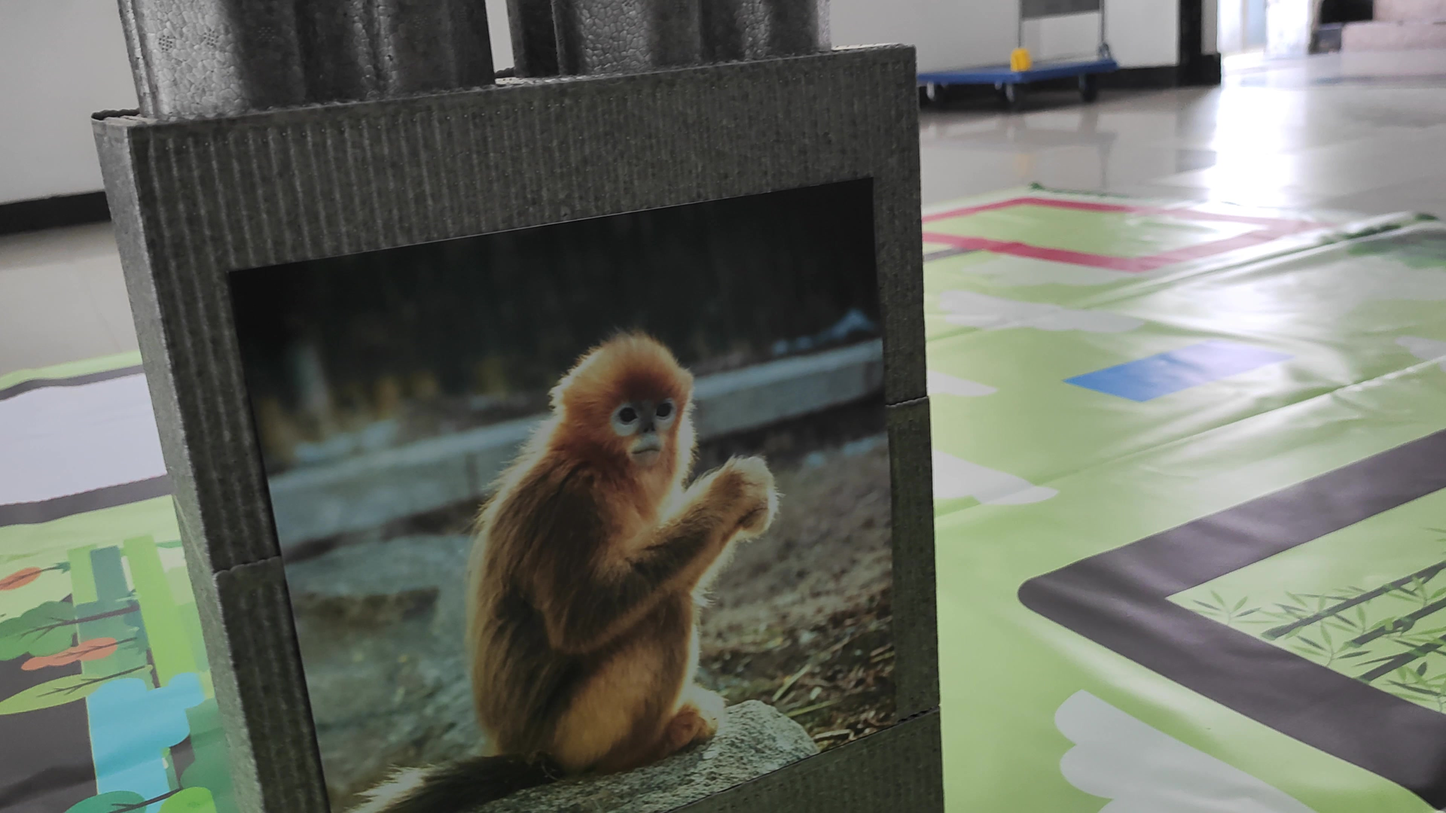monkey: (353, 299, 809, 807)
